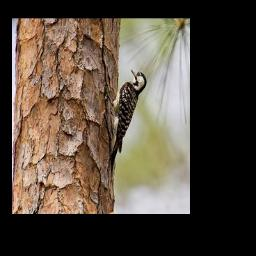Woodpecker: (104, 69, 147, 177)
